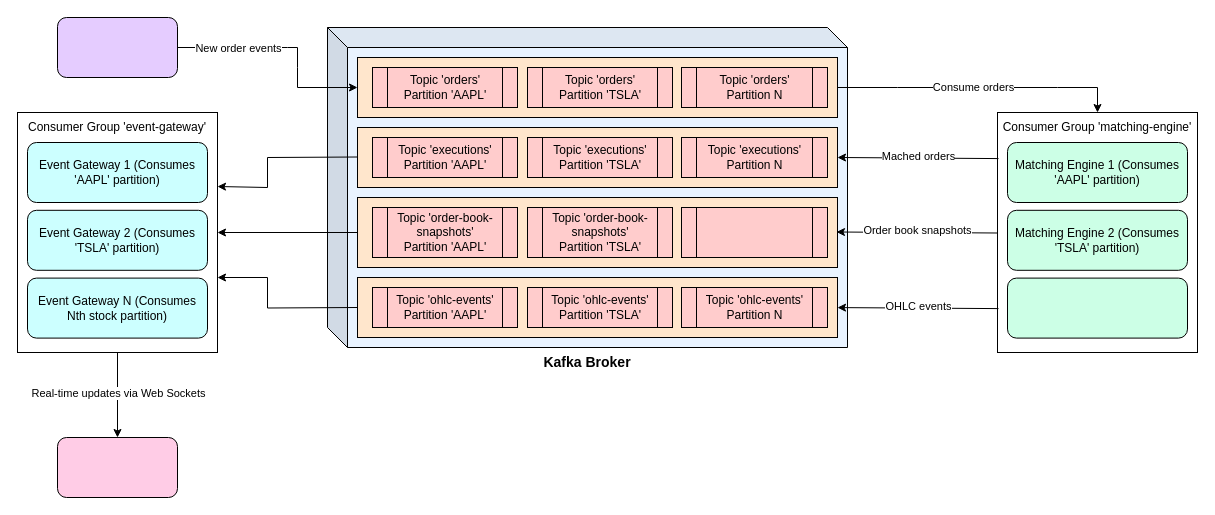
Some shapes in this 1215 by 515 pixel diagram are drawn without their labels. Here are the shapes that lost their labels. From the top down, the centre of each, then its label:
At pixel 117 47: "Trading Client (Python)".
At pixel 754 232: "Topic 'order-book-snapshots' Partition N".
At pixel 1097 307: "Matching Engine N (Consumes Nth stock partition)".
At pixel 117 467: "Frontend (React)".
